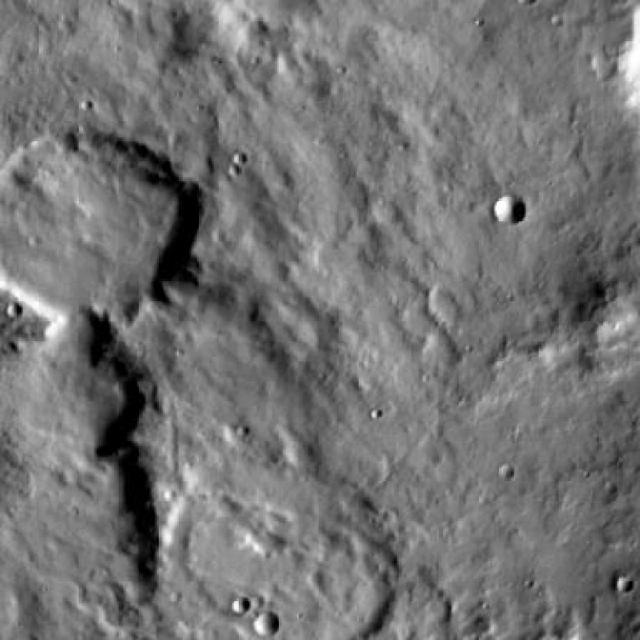crater: (140, 458, 392, 640), (0, 121, 176, 324), (493, 193, 525, 224), (254, 616, 278, 638), (230, 592, 248, 610), (616, 576, 633, 592)
